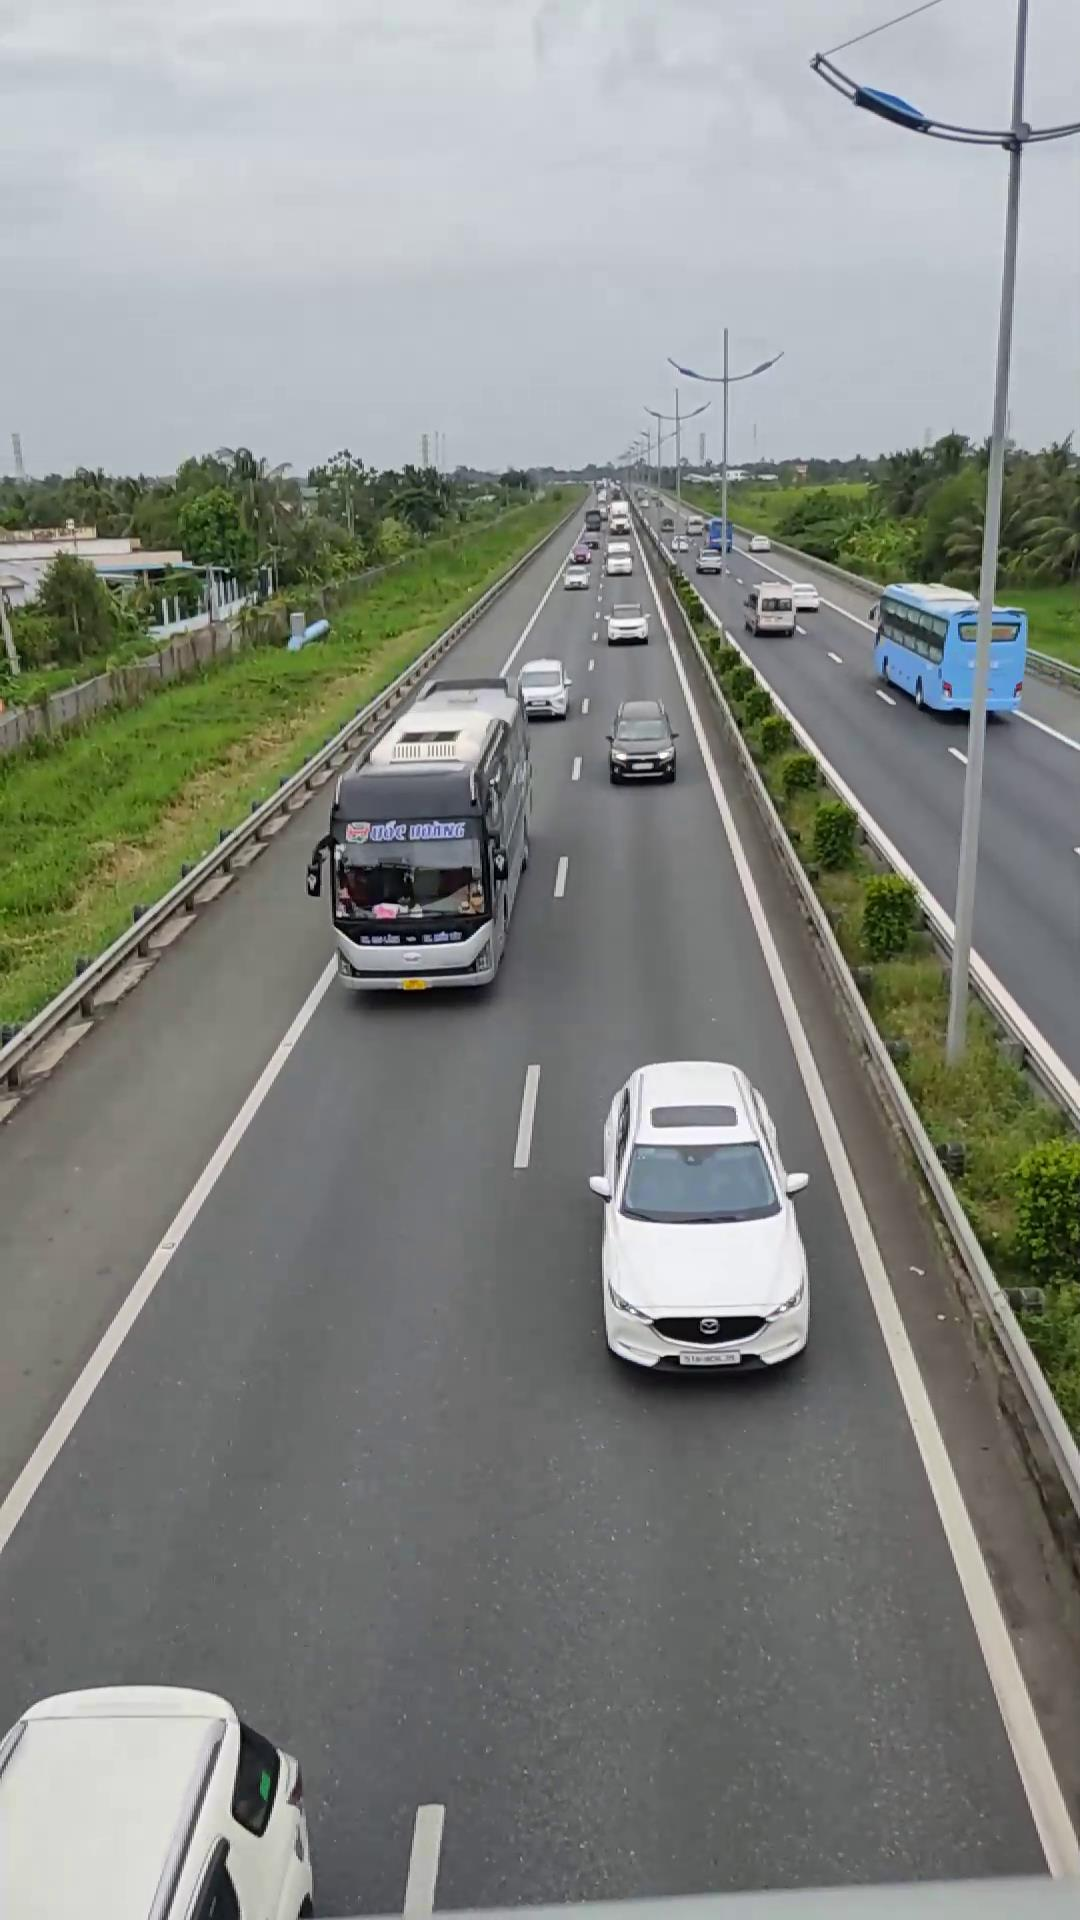bus: (319, 673, 537, 997)
car: (0, 1680, 320, 1919), (588, 1058, 816, 1376), (603, 699, 679, 783), (509, 658, 576, 720)
